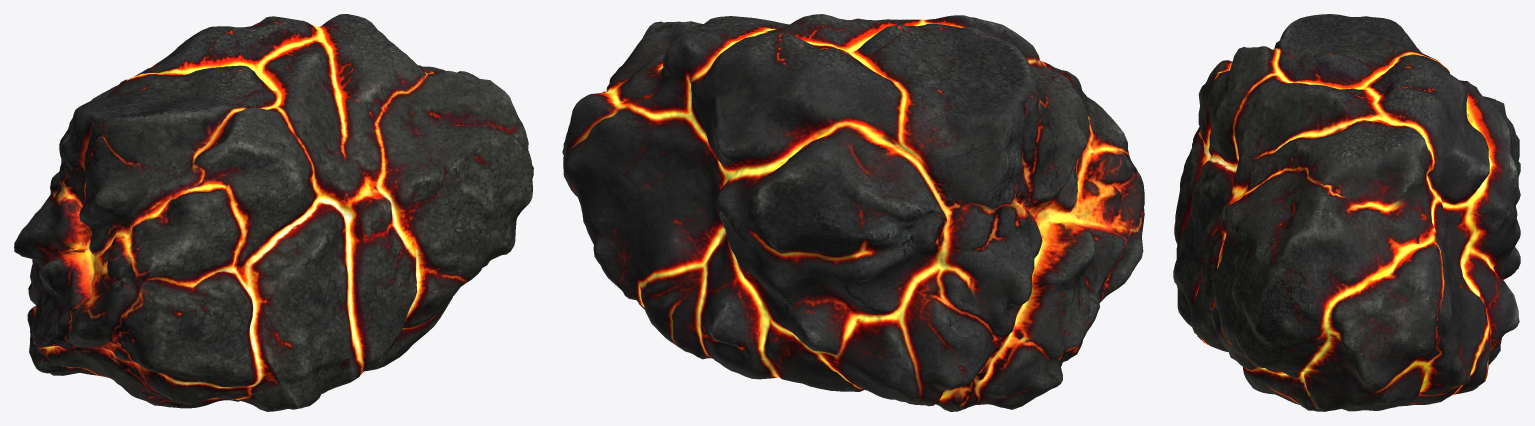
File: lava_rock_c.glb
The picture shows the model from 3 angles, left to right: view 1: azimuth 30°, elevation 25°; view 2: azimuth 150°, elevation 25°; view 3: azimuth 270°, elevation 25°; orthographic projection. The views are drawn at different scales.
Visible parts, largest first — view 1: lava_rock_c; view 2: lava_rock_c; view 3: lava_rock_c.
Part boxes in pixels (bbox=[...]): lava_rock_c: bbox=[14, 14, 533, 411]; lava_rock_c: bbox=[562, 14, 1144, 411]; lava_rock_c: bbox=[1173, 14, 1520, 411].
Size of the model in its own units: 1.91 by 1.19 by 1.23.
Materials: 1 (1 with a texture image).
